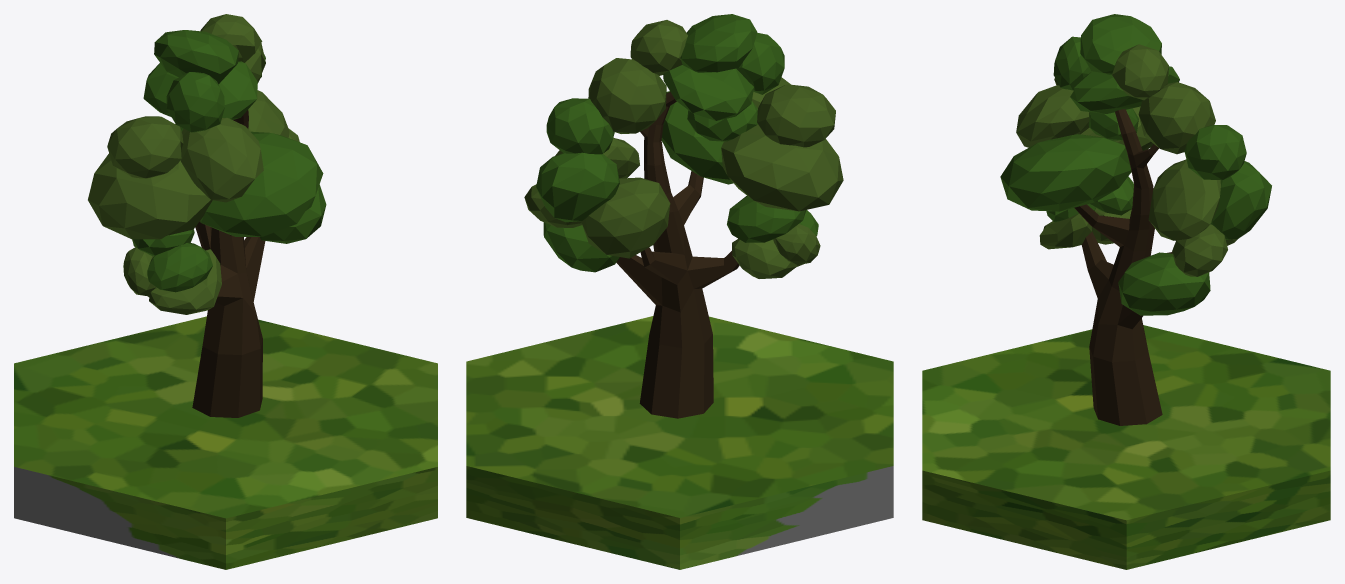
Rendered from tree4_Albedo.FBX.
3 renders of one model, left to right at view 1: azimuth 30°, elevation 25°; view 2: azimuth 150°, elevation 25°; view 3: azimuth 270°, elevation 25°, orthographic. The views are drawn at different scales.
Visible parts, largest first — view 1: groundEarth, Oak_Cylinder_004; view 2: groundEarth, Oak_Cylinder_004; view 3: groundEarth, Oak_Cylinder_004.
Part boxes in pixels (x1,y1,x2,y2): groundEarth: [14, 316, 437, 569]; Oak_Cylinder_004: [88, 14, 326, 417]; groundEarth: [466, 316, 893, 569]; Oak_Cylinder_004: [524, 14, 843, 418]; groundEarth: [922, 325, 1330, 569]; Oak_Cylinder_004: [1000, 14, 1271, 425].
Size of the model in its own units: 10000 by 10077 by 8660.
4 materials, 1 textured.
